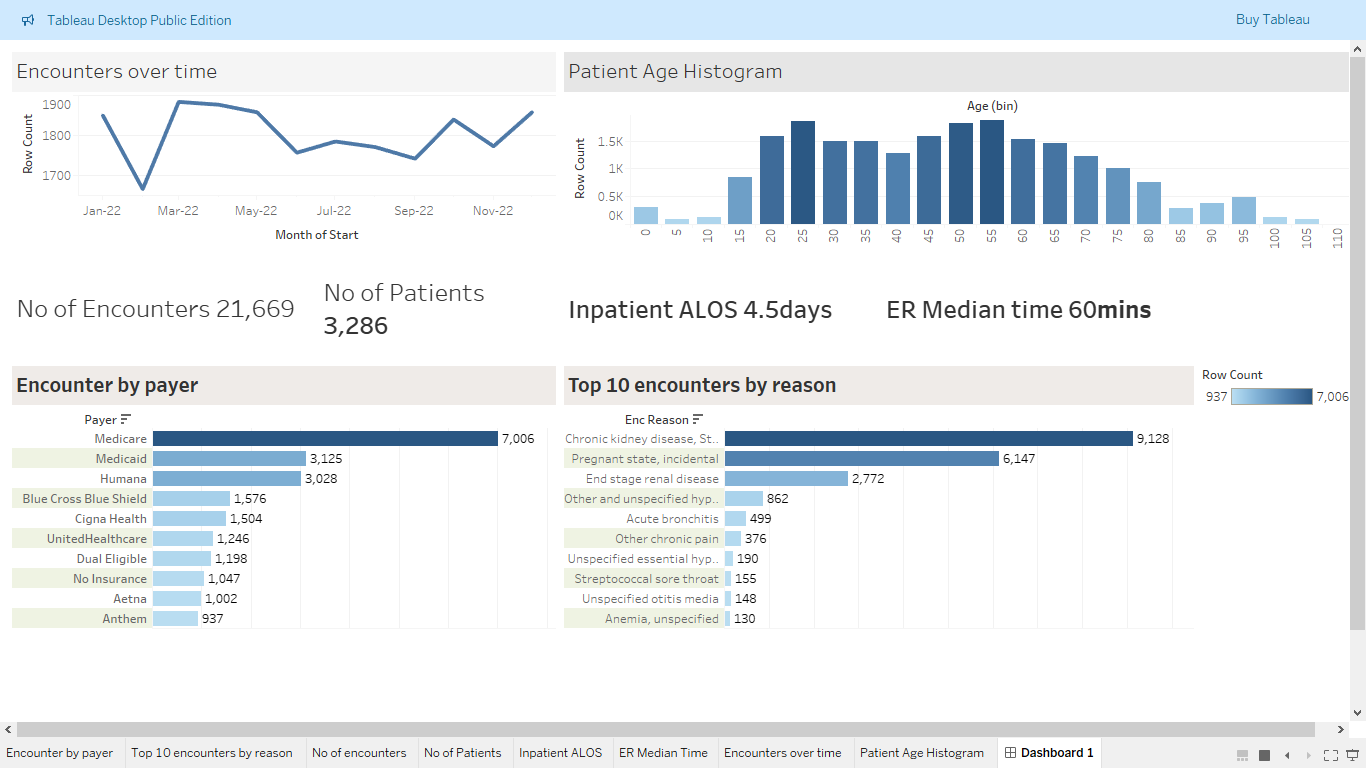

Layout of this report page (visuals, bound fields, positions):
{"tool":"tableau","page":{"name":"Dashboard 1","canvas":[1366,768],"ordinal":0},"visuals":[{"type":"worksheet","title":"Encounters over time","mark":"Line","rows":["Calculation_1933733129114697729"],"cols":["start"],"box":[8,8,552,206]},{"type":"worksheet","title":"Patient Age Histogram","mark":"Automatic","rows":["Calculation_1933733129114697729"],"cols":["Age (bin)"],"box":[560,8,798,206]},{"type":"worksheet","title":"No of encounters","mark":"Automatic","box":[8,214,307,108]},{"type":"worksheet","title":"No of Patients","mark":"Automatic","box":[315,214,245,108]},{"type":"worksheet","title":"Inpatient ALOS","mark":"Automatic","box":[560,214,318,108]},{"type":"worksheet","title":"ER Median Time","mark":"Automatic","box":[878,214,480,108]},{"type":"worksheet","title":"Encounter by payer","mark":"Automatic","rows":["payer"],"cols":["Calculation_1933733129114697729"],"box":[8,322,552,438]},{"type":"worksheet","title":"Top 10 encounters by reason","mark":"Automatic","rows":["enc_reason"],"cols":["Calculation_1933733129114697729"],"box":[560,322,638,438]},{"type":"legend","title":"Encounter by payer","param":"[federated.0lo4a9v1ent6sz1dn9cno15see4u].[sum:Calculation_1933733129114697729:qk","box":[1198,322,160,65]}]}

Visuals, with their boxes on the page's 1366x768 design canvas (x1, y1, x2, y2). These are canvas units, not pixel positions in the 1366x768 screenshot, which may show the page scaled, cropped or inside an application window:
"Encounters over time" worksheet (Line marks): 8, 8, 560, 214
"Patient Age Histogram" worksheet: 560, 8, 1358, 214
"No of encounters" worksheet: 8, 214, 315, 322
"No of Patients" worksheet: 315, 214, 560, 322
"Inpatient ALOS" worksheet: 560, 214, 878, 322
"ER Median Time" worksheet: 878, 214, 1358, 322
"Encounter by payer" worksheet: 8, 322, 560, 760
"Top 10 encounters by reason" worksheet: 560, 322, 1198, 760
"Encounter by payer" legend: 1198, 322, 1358, 387
